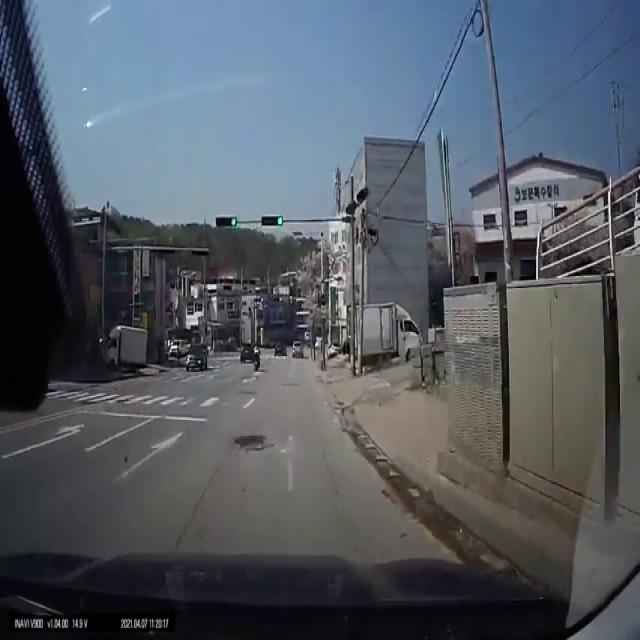Pothole: (233, 432, 269, 449)
